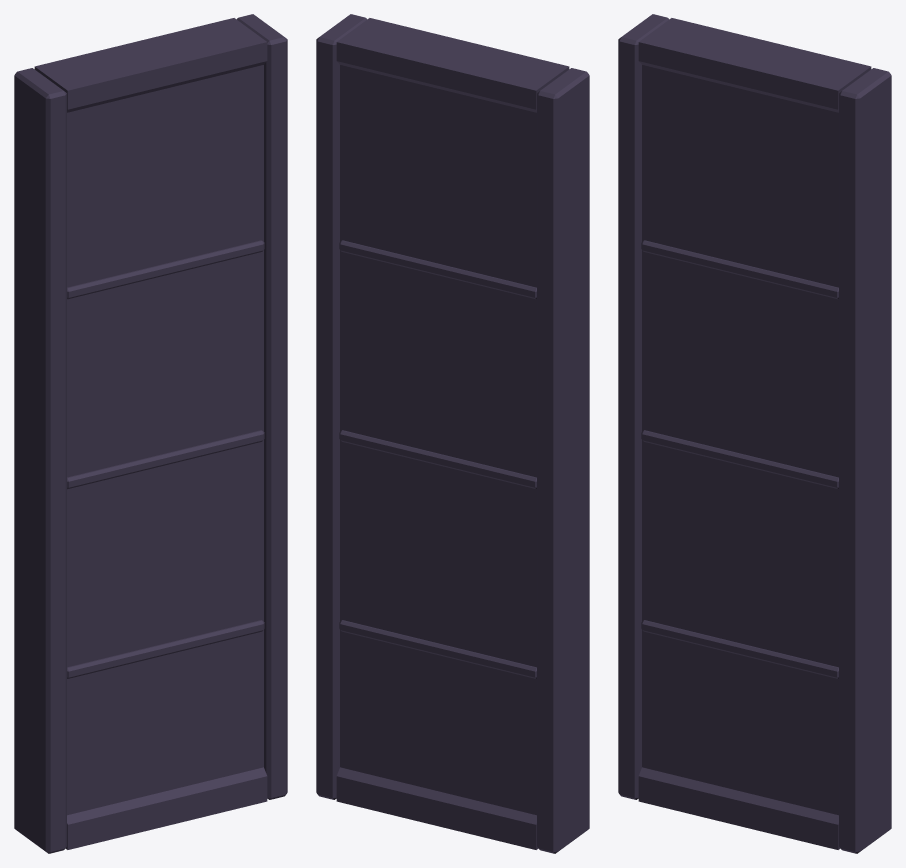
File: TallWall.fbx
3 views of the same model, side by side, from view 1: azimuth 30°, elevation 25°; view 2: azimuth 150°, elevation 25°; view 3: azimuth 330°, elevation 25° (orthographic).
Visible parts, largest first — view 1: TallWall; view 2: TallWall; view 3: TallWall.
Boxes of the visible parts, left/top/right/bottom form: TallWall: left=14, top=14, right=287, bottom=853; TallWall: left=316, top=14, right=589, bottom=853; TallWall: left=618, top=14, right=891, bottom=853.
Bounding box in the file's own units: 8 × 24 × 2.
